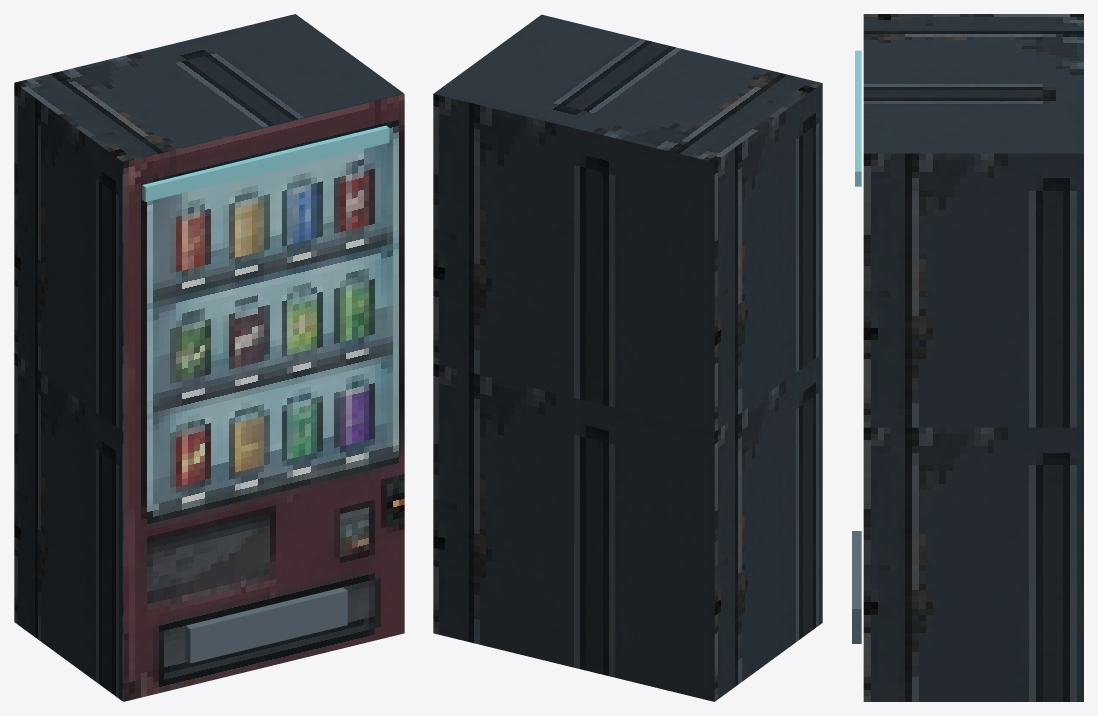
The model's file is vending_machine.glb.
3 views of the same model, side by side, from view 1: azimuth 30°, elevation 25°; view 2: azimuth 150°, elevation 25°; view 3: azimuth 270°, elevation 25° (orthographic).
Parts seen in each view (by area): view 1: vending_machine; view 2: vending_machine; view 3: vending_machine.
Boxes of the visible parts, bbox=[...] form: vending_machine: bbox=[14, 14, 404, 701]; vending_machine: bbox=[433, 14, 822, 701]; vending_machine: bbox=[852, 14, 1083, 701].
Size of the model in its own units: 1.2 by 2.2 by 0.8425.
3 materials, 1 textured.
